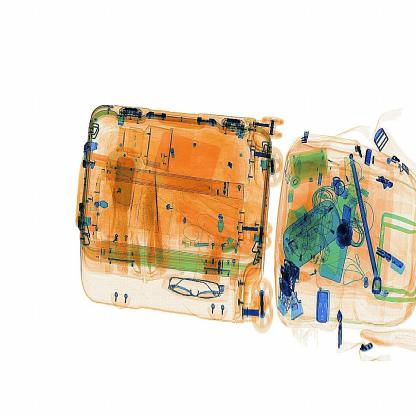wrench: (150, 166, 164, 265)
